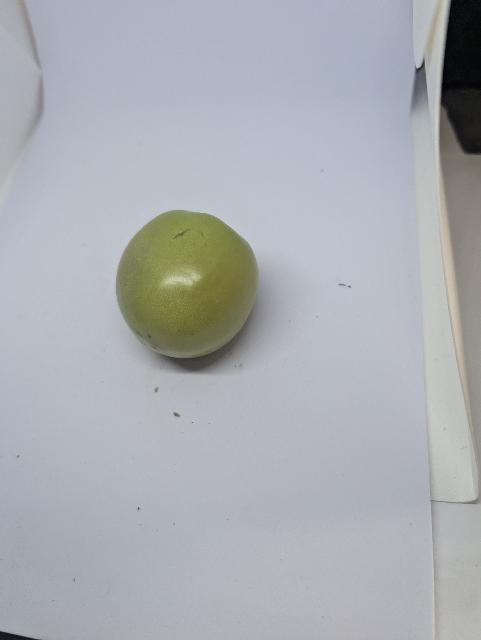green: (115, 208, 262, 361)
